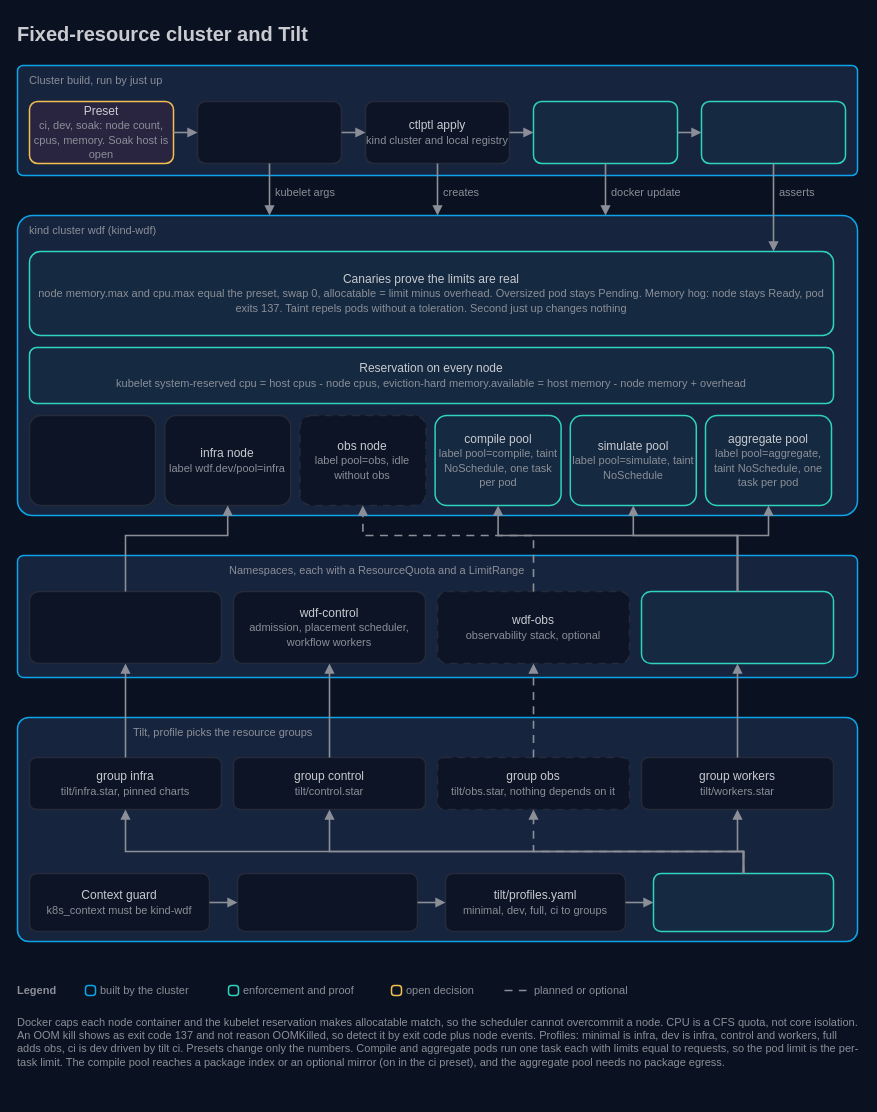
Image size: 877x1112. Some labels were removed from this diagram. The shapes that lost their labels are listed below. From the top down, each one's centre as x and y in pixels, then its label:
At (x=269, y=132): "Render kind config with per-node kubelet args".
At (x=605, y=132): "Hard limits docker update cpus, memory, swap = memory".
At (x=773, y=132): "cluster-verify fails if limits are not real".
At (x=92, y=460): "control plane kubeadm control plane".
At (x=125, y=627): "wdf-infra Temporal, Postgres, RabbitMQ, object storage".
At (x=737, y=627): "wdf-workers task pods, tolerate pool taints, quota just above pool allocatable".
At (x=327, y=902): "Profile args config.define_string profile, --with, --without".
At (x=743, y=902): "set_enabled_resources only the chosen groups run".
